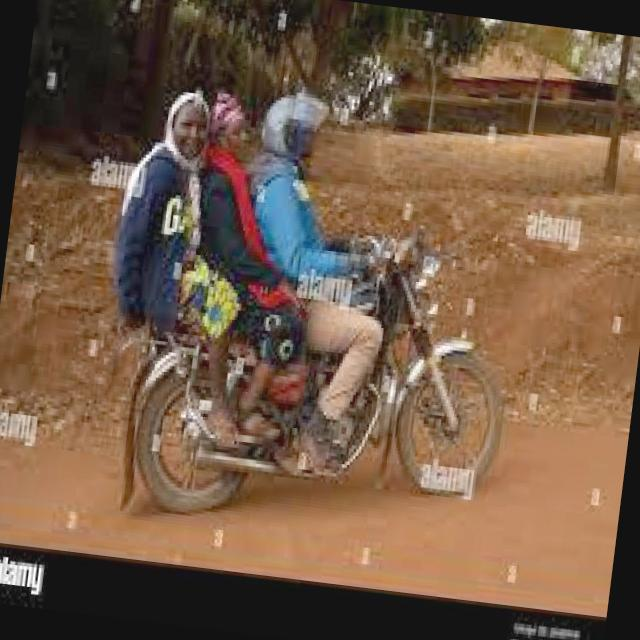motorcycle: (105, 182, 538, 546)
person: (95, 73, 265, 354), (228, 72, 376, 364), (175, 70, 320, 304)
rider_region: (80, 59, 548, 548)
